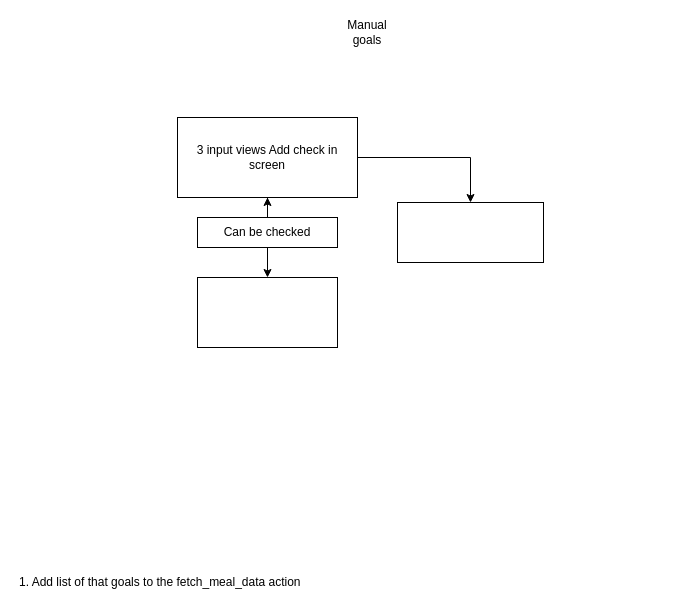
The diagram is 684 pixels wide and 614 high, and some of its shapes have lost their labels. The centre of each missing label's shape, as x and y in pixels:
"Drop down with request" goes at [267,312].
"Show that goals when we open add check in screen" goes at [470,232].
